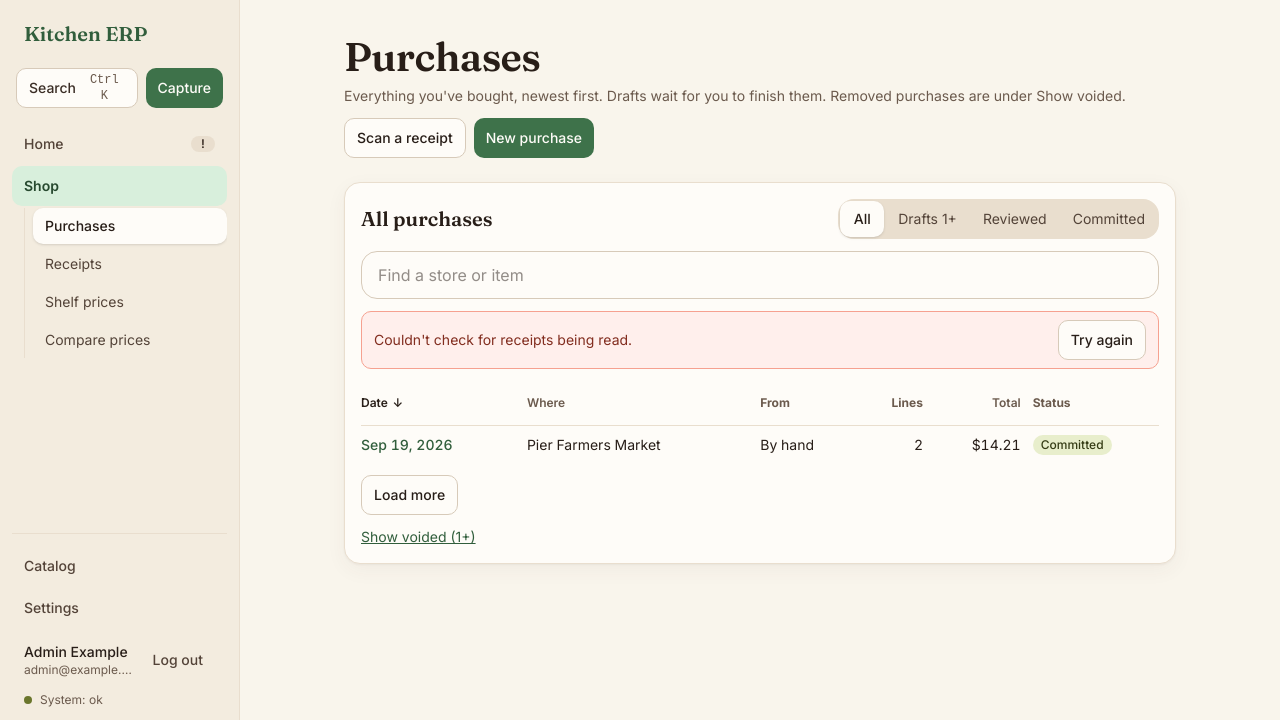
Test case: purchases › lists purchases with their totals and loads more by cursor
Expected: the row "Sep 19, 2026 Pier Farmers Market By hand 2 $14.21 Committed" is shown, [361,426,1159,463]
Expected: the cell "2" is shown, [866,426,935,463]
Click the button "Load more": (410, 495) [361,475,458,515]
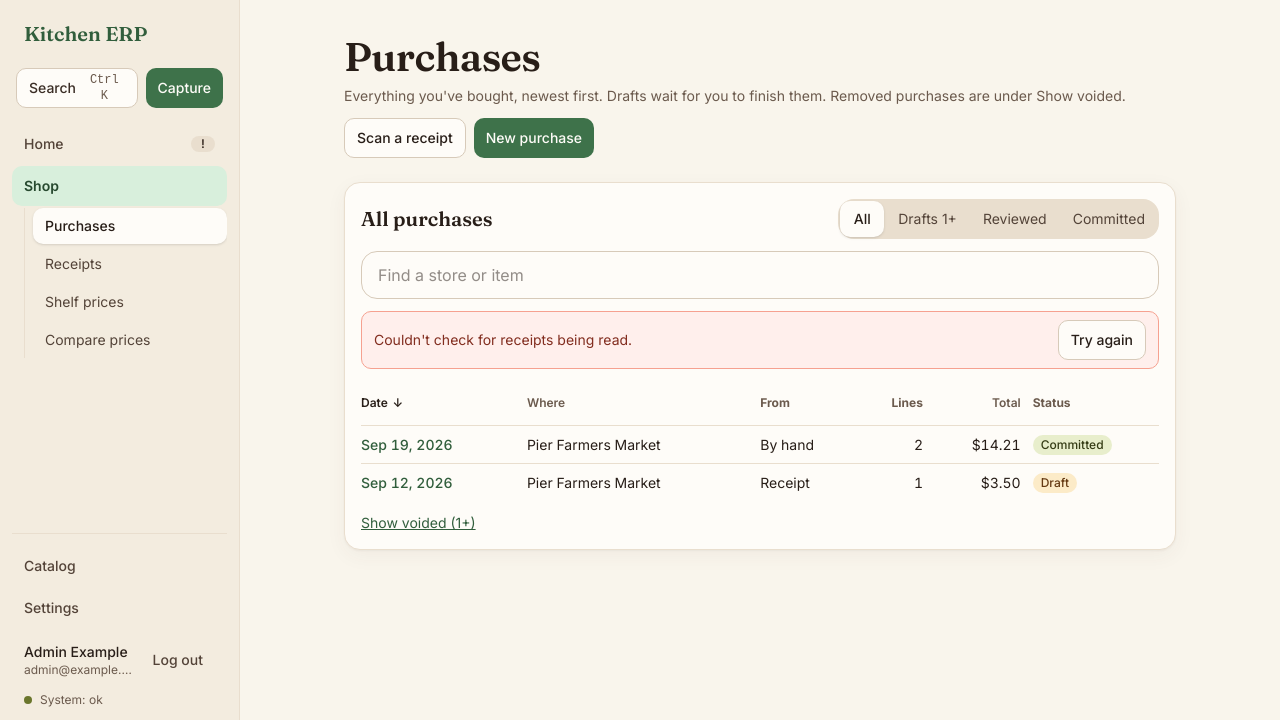
Expected: the number of rows is 3, [361,381,1159,426]; [361,426,1159,464]; [361,464,1159,501]
Now the row "Sep 12, 2026 Pier Farmers Market Receipt 1 $3.50 Draft" is shown, box [361,464,1159,501]
Now the button "Load more" is gone
